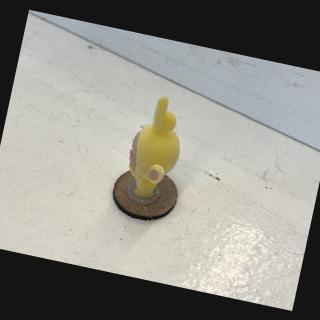teletubby: (128, 96, 179, 198)
